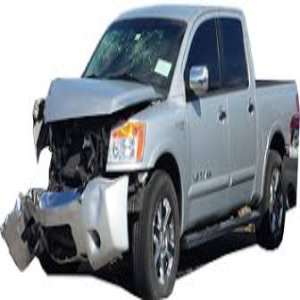bonnet: (48, 71, 143, 121)
bumper: (1, 181, 135, 270)
